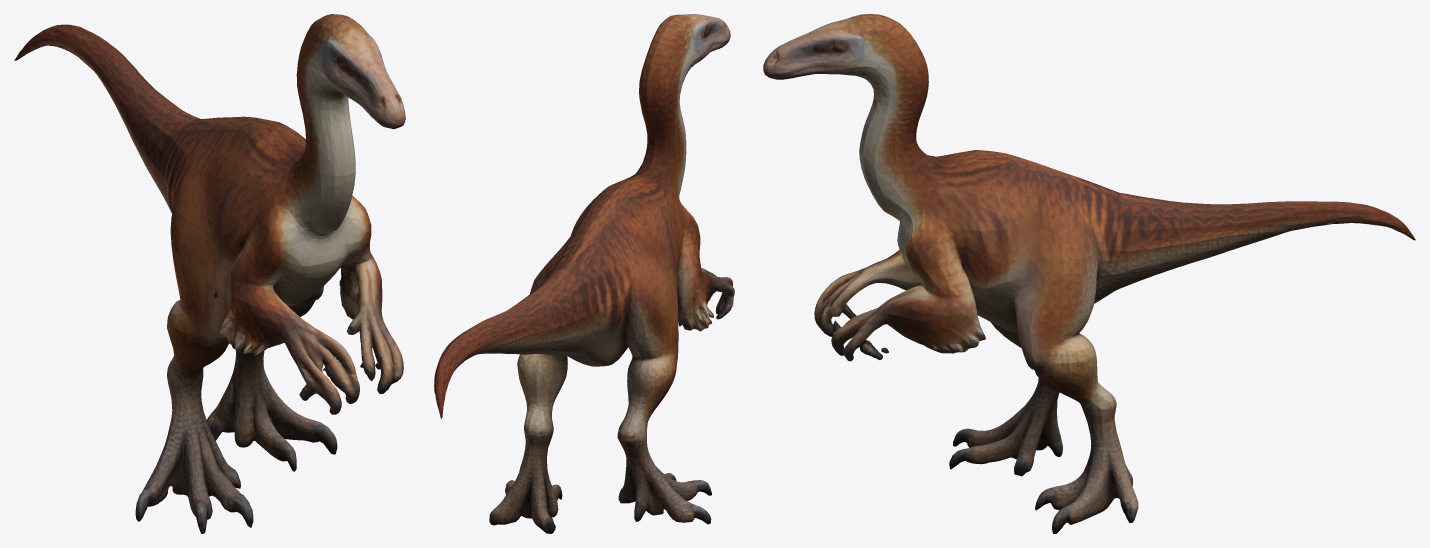
3 views of the same model, side by side, from view 1: azimuth 30°, elevation 25°; view 2: azimuth 150°, elevation 25°; view 3: azimuth 270°, elevation 25° (orthographic). The views are drawn at different scales.
Visible parts, largest first — view 1: world; view 2: world; view 3: world.
Boxes of the visible parts, x1,y1,x2,y2 form: world: [14, 14, 405, 533]; world: [434, 14, 734, 533]; world: [763, 14, 1415, 533].
Size of the model in its own units: 0.3536 by 0.8036 by 0.9978.
Materials: 1 (1 with a texture image).
